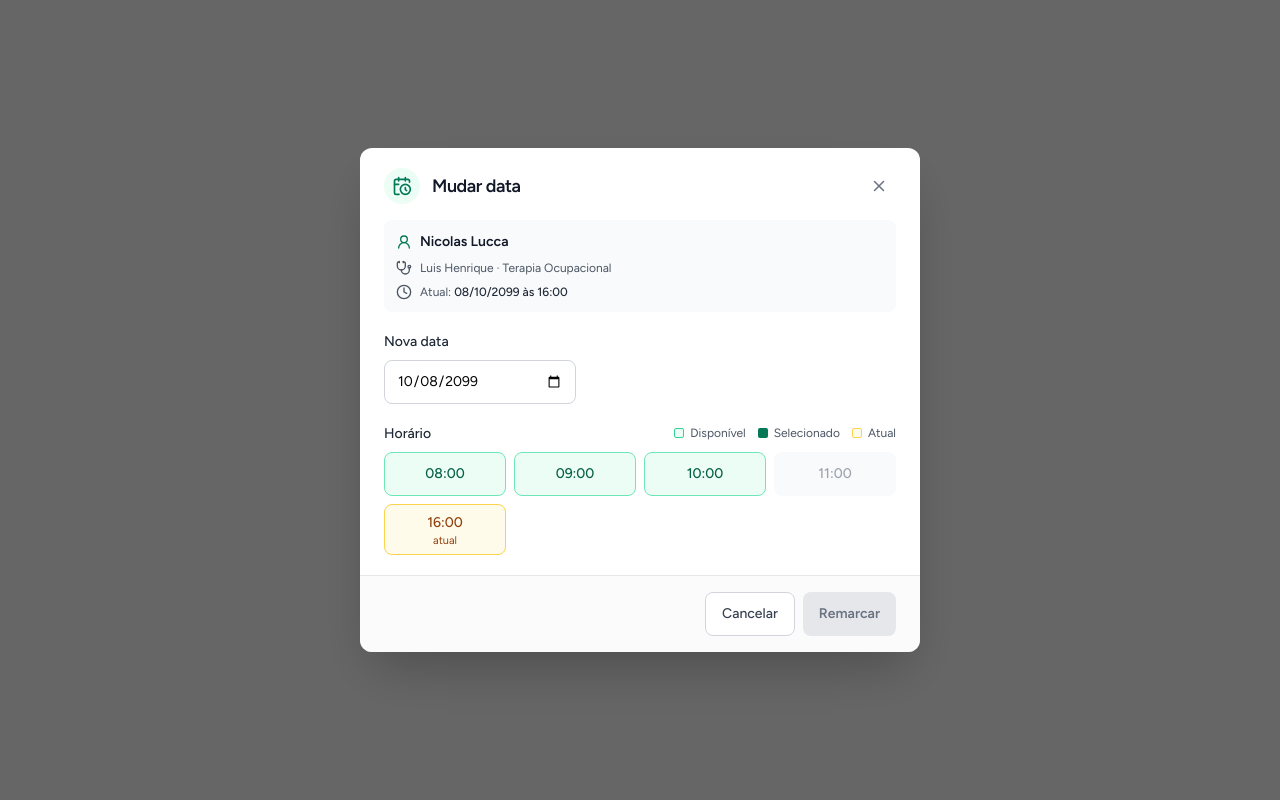
RescheduleDialog › ao trocar a data busca de novo os horários e limpa a seleção
Click the option "09:00" at [575, 474], box [514, 452, 636, 496]
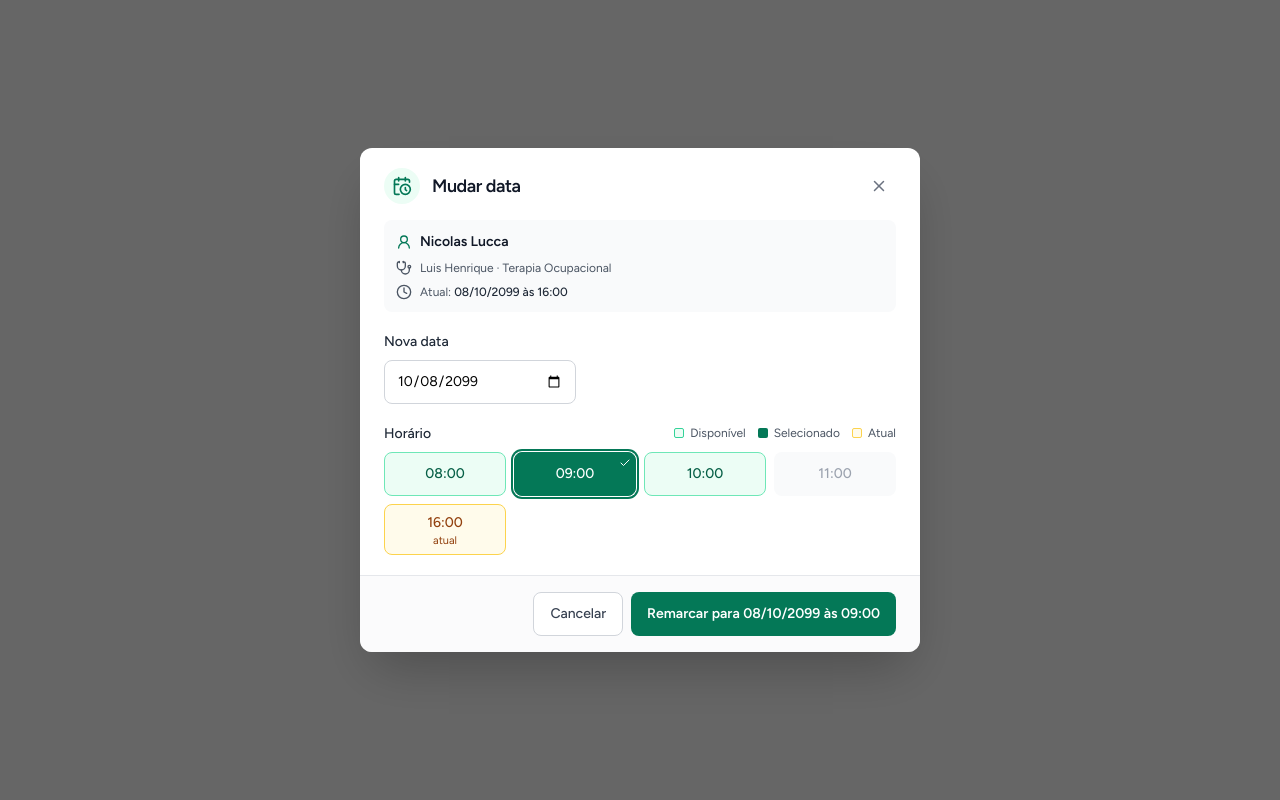
Type "2099-10-12" into the date field labelled "Nova data" at [480, 382], box [384, 360, 576, 404]
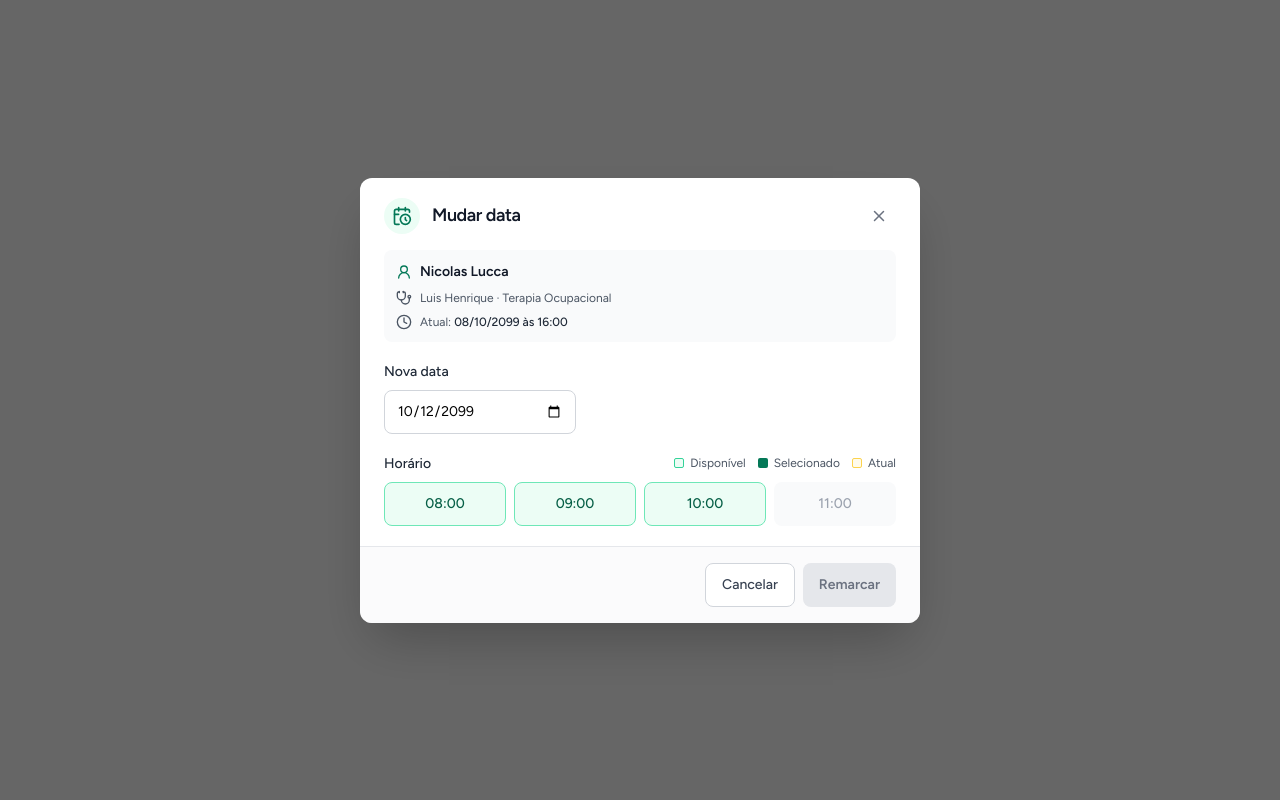
Expected: the button "Remarcar" is disabled, [803, 562, 896, 606]
